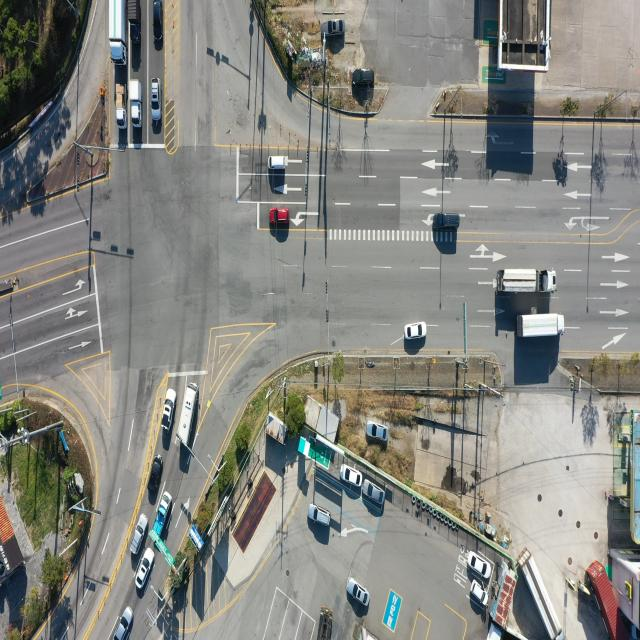car: (136, 547, 155, 587), (131, 514, 149, 556), (348, 577, 370, 608), (116, 606, 136, 640), (162, 389, 176, 437), (470, 552, 492, 580), (148, 455, 163, 495), (433, 211, 461, 230), (342, 464, 364, 487), (309, 505, 330, 529), (364, 482, 384, 506), (153, 0, 163, 47), (322, 20, 345, 40), (470, 581, 487, 608), (365, 422, 388, 441), (352, 68, 375, 85), (406, 322, 427, 340), (150, 78, 159, 119), (271, 209, 290, 223), (268, 156, 286, 170)
medium_truck: (524, 553, 564, 640), (501, 270, 560, 296), (516, 313, 565, 338), (110, 0, 128, 64), (317, 605, 333, 640)
small_bus: (175, 382, 197, 447)
small_truck: (150, 490, 172, 544), (130, 79, 144, 126), (114, 83, 126, 129), (128, 0, 139, 41)
